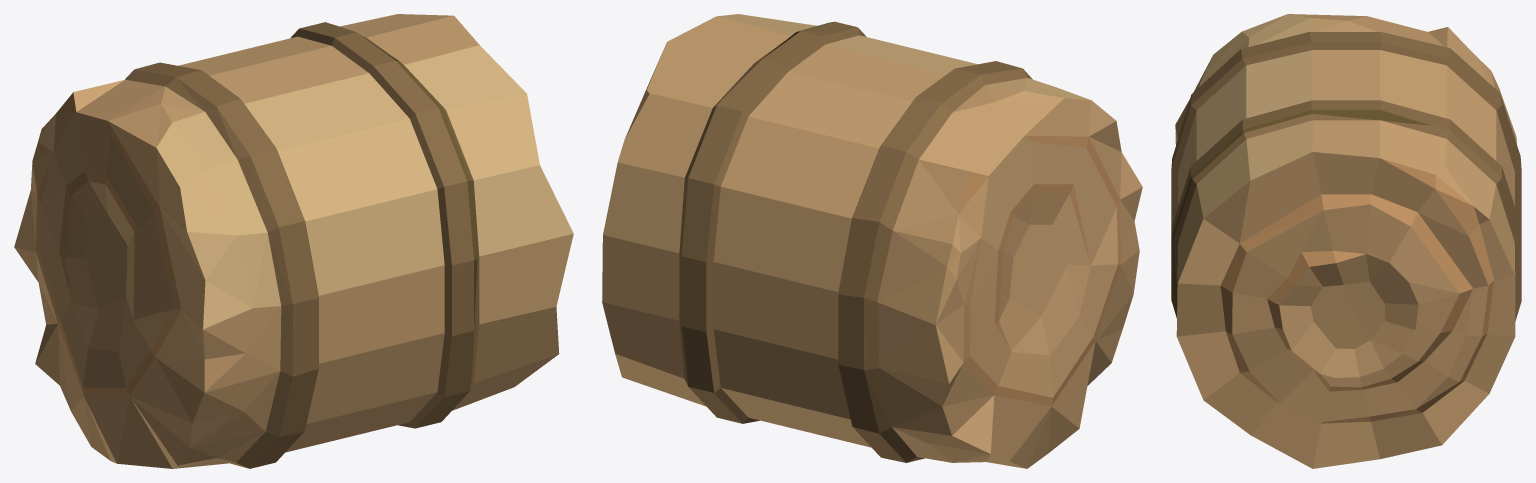
The model's file is EA_M_HayBale_Dry_01a.fbx.
3 renders of one model, left to right at view 1: azimuth 30°, elevation 25°; view 2: azimuth 150°, elevation 25°; view 3: azimuth 270°, elevation 25°, orthographic. The views are drawn at different scales.
Parts seen in each view (by area): view 1: EA_M_HayBale_Dry_01a_LOD0; view 2: EA_M_HayBale_Dry_01a_LOD0; view 3: EA_M_HayBale_Dry_01a_LOD0.
Boxes of the visible parts, x1,y1,x2,y2 form: EA_M_HayBale_Dry_01a_LOD0: [14, 14, 573, 468]; EA_M_HayBale_Dry_01a_LOD0: [602, 14, 1142, 468]; EA_M_HayBale_Dry_01a_LOD0: [1171, 14, 1521, 468].
Size of what is drawn, in the model's own units: 0.9809 by 0.8359 by 0.8359.
